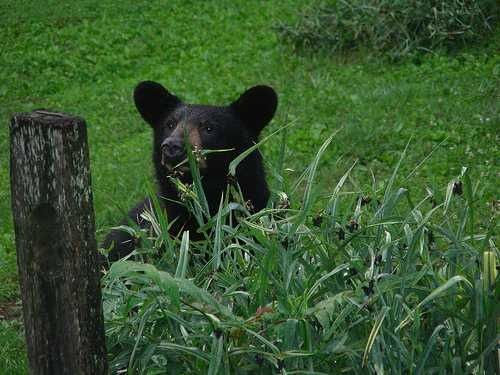bear: (140, 74, 268, 202)
